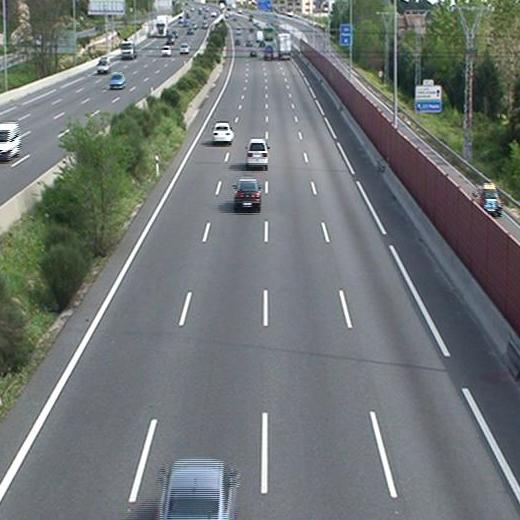car: (158, 459, 240, 520), (231, 177, 263, 211), (244, 138, 271, 169), (211, 121, 234, 144)
small-truck: (263, 45, 275, 61)
truck: (276, 32, 292, 58)
